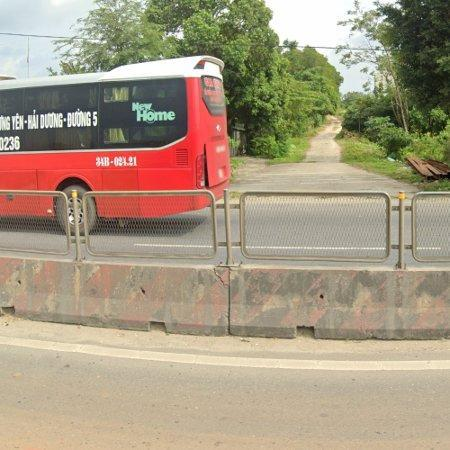buses: (0, 56, 231, 233), (88, 197, 209, 230)
